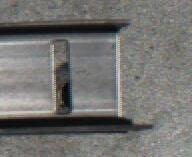40ngpress: (15, 20, 144, 131)
